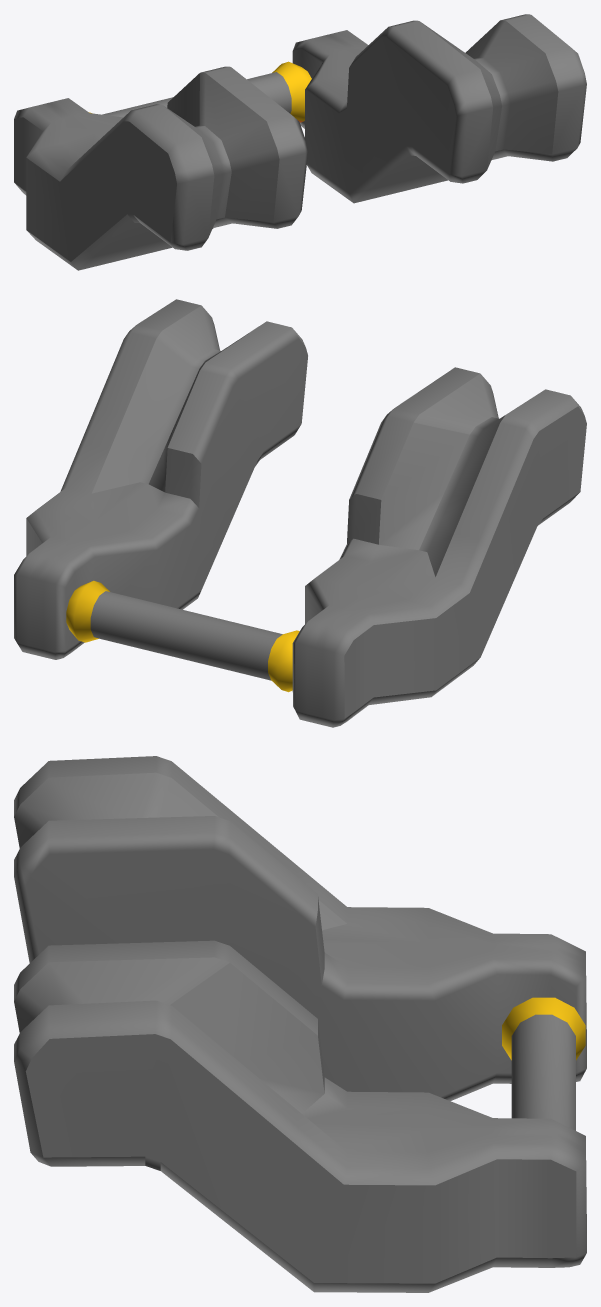
Rendered from pedestal.fbx.
3 views of the same model, one above another, from view 1: azimuth 30°, elevation 25°; view 2: azimuth 150°, elevation 25°; view 3: azimuth 270°, elevation 25° (orthographic). The views are drawn at different scales.
Visible parts, largest first — view 1: pedestal; view 2: pedestal; view 3: pedestal.
Boxes of the visible parts, x1=… form: pedestal: x1=14, y1=14, x2=586, y2=270; pedestal: x1=14, y1=299, x2=586, y2=727; pedestal: x1=14, y1=756, x2=586, y2=1292.
Size of the model in its own units: 77.16 by 36.59 by 68.82.
